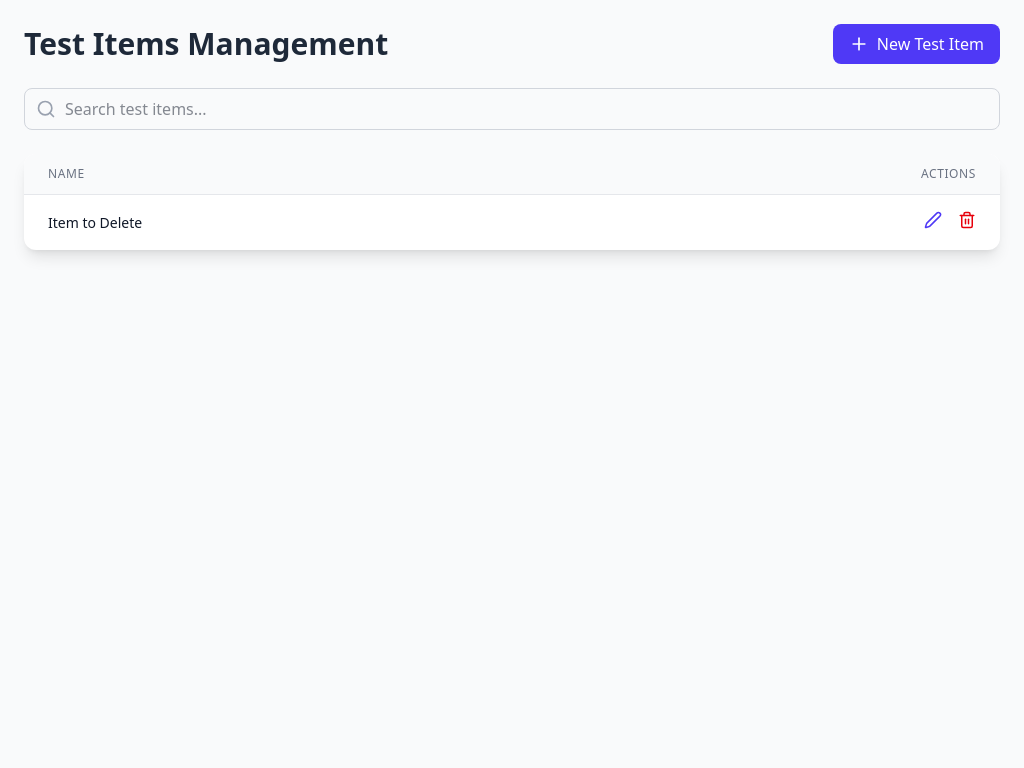
Test: Basic Flow Verification › CrudManager Delete Flow › should show confirmation modal when delete is clicked and proceed on confirm
This screenshot has width=1024, height=768.
Expected: the text "Item to Delete" is shown, [24,194,590,250]
Click the button named "Delete Test Item". click: (967, 220)
box: [958,211,976,229]
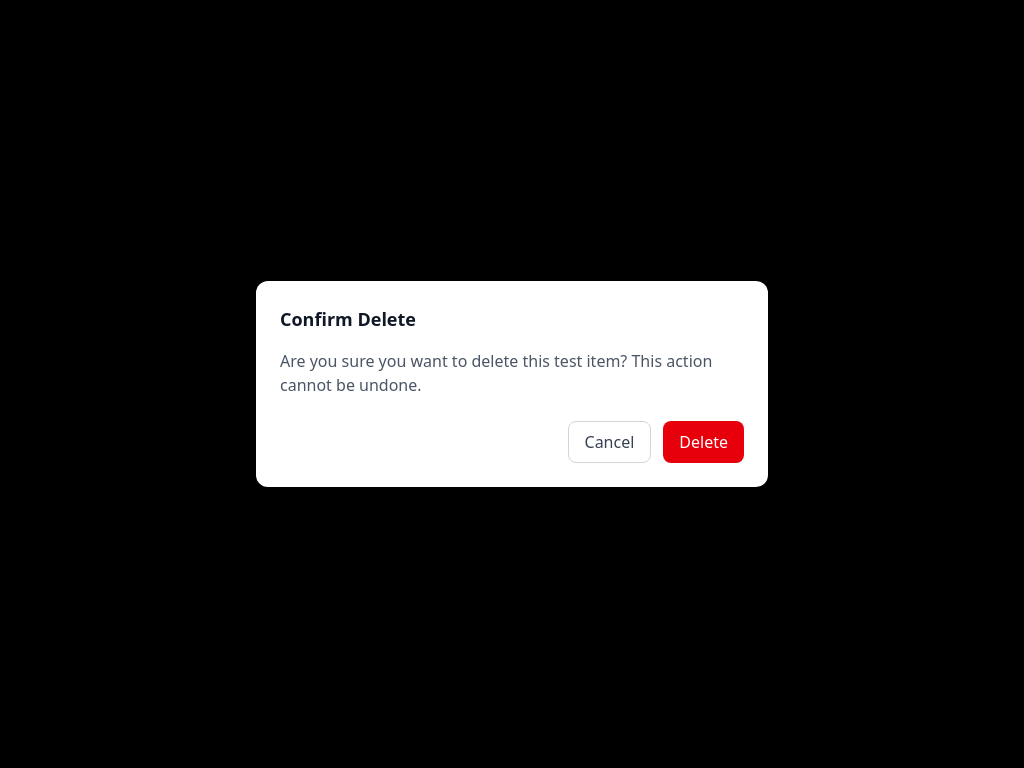
Result: the heading "Confirm Delete" is shown at [280,307,416,331]
Result: the text "Are you sure you want to delete this test item" is shown at [280,350,712,396]
Note: Click "Cancel" first to verify it doesn't delete
Click the button "Cancel". click: (609, 442)
box: [568,421,651,463]
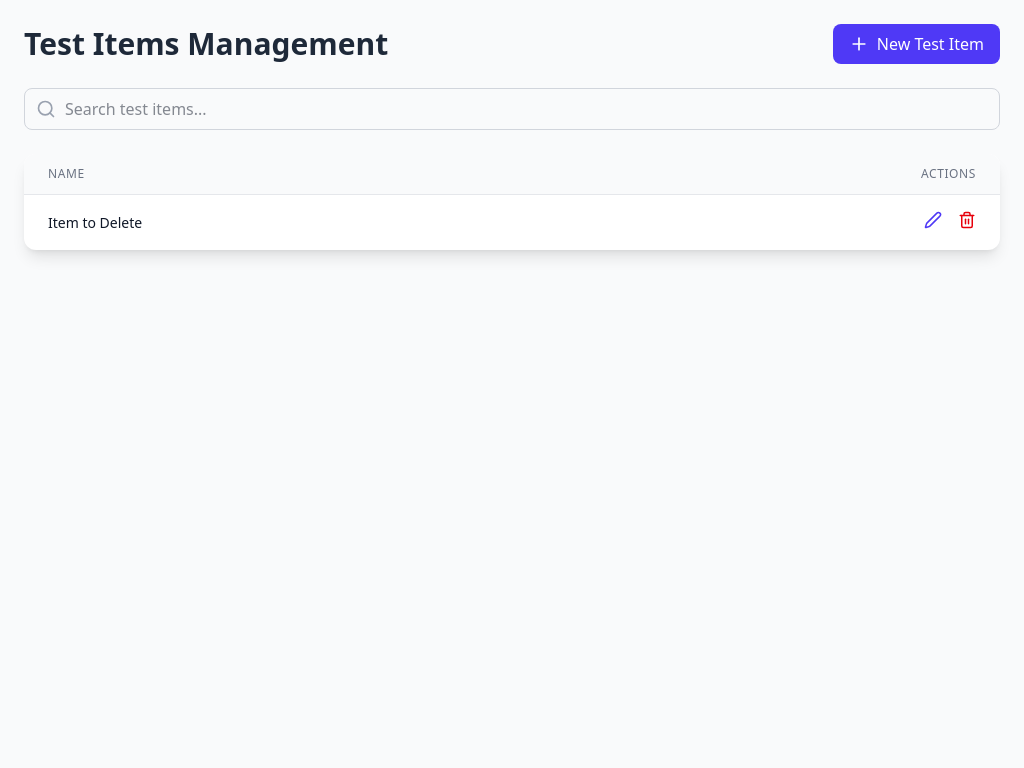
Result: the heading "Confirm Delete" is gone
Note: Click Delete again to actually delete
Click the button named "Delete Test Item". click: (967, 220)
box: [958,211,976,229]
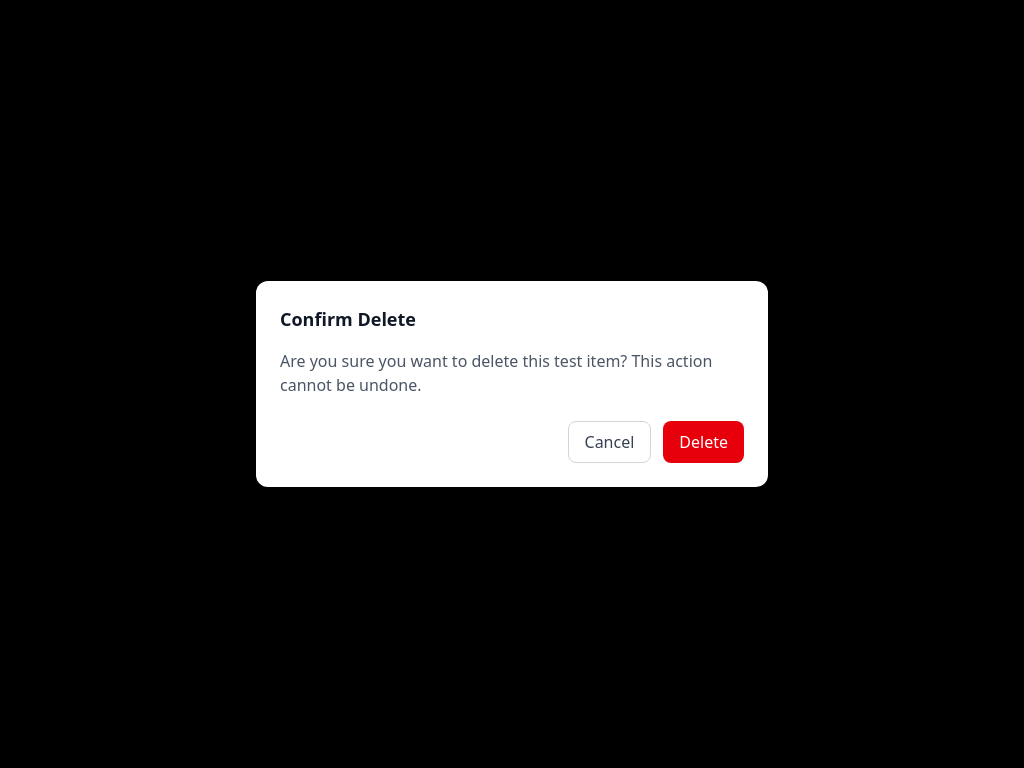
Result: the heading "Confirm Delete" is shown at [280,307,416,331]
Click the button "Delete". click: (704, 442)
box: [663,421,744,463]
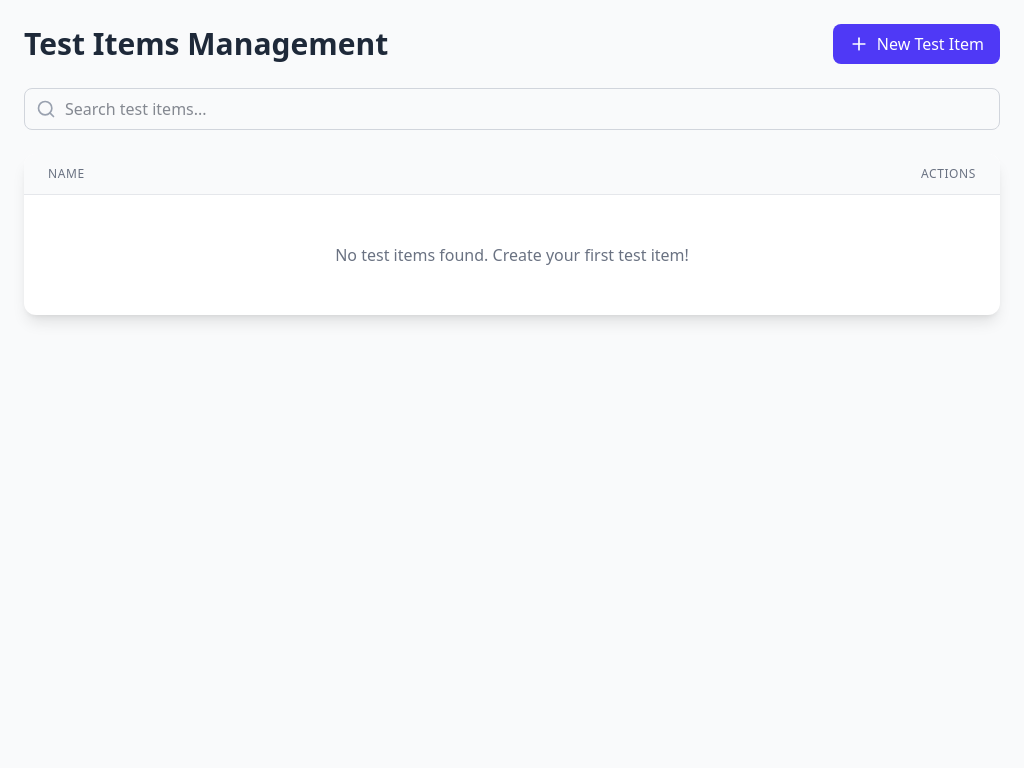
Result: the text "Item to Delete" is gone
